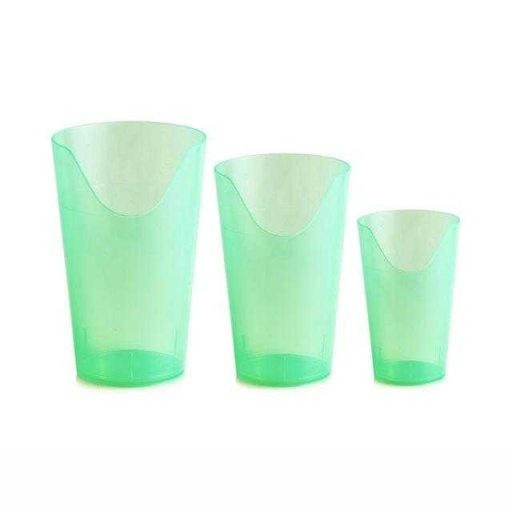cup: (50, 119, 206, 387), (213, 152, 349, 386), (356, 209, 459, 384)
